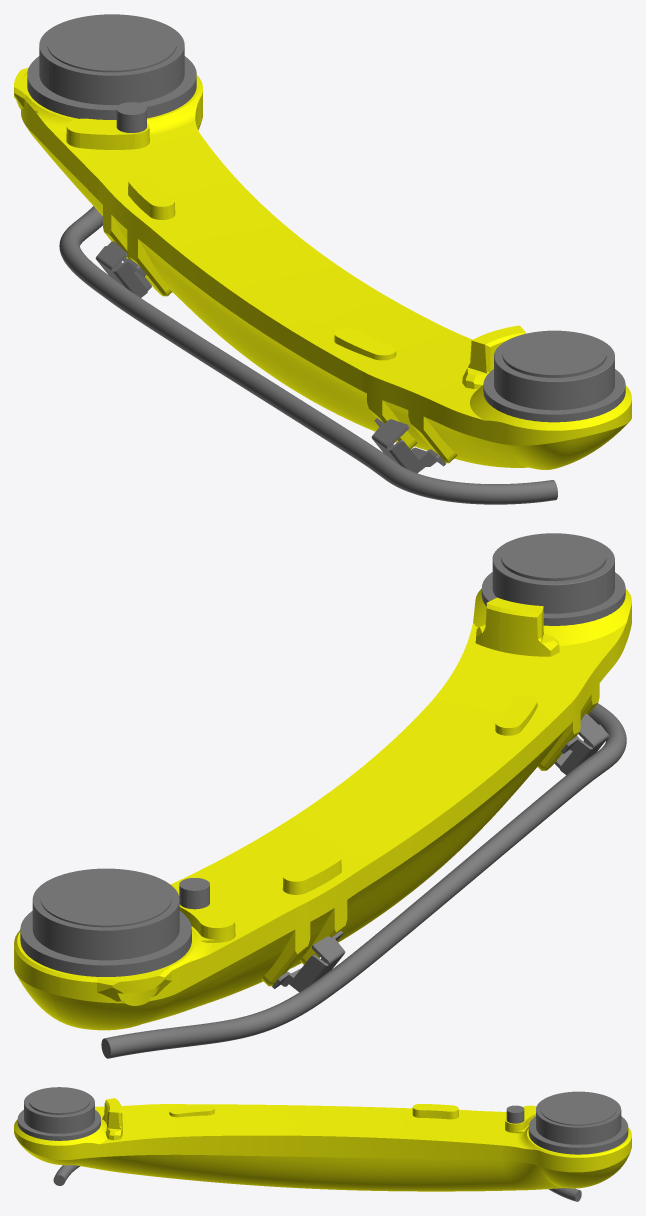
3 views of the same model, one above another, from view 1: azimuth 30°, elevation 25°; view 2: azimuth 150°, elevation 25°; view 3: azimuth 270°, elevation 25° (orthographic). The views are drawn at different scales.
Visible parts, largest first — view 1: Mesh_0; view 2: Mesh_0; view 3: Mesh_0.
Part boxes in pixels (x1,y1,x2,y2): Mesh_0: [14, 14, 631, 504]; Mesh_0: [14, 533, 631, 1058]; Mesh_0: [14, 1087, 631, 1201].
Size of the model in its own units: 0.2193 by 0.181 by 1.
